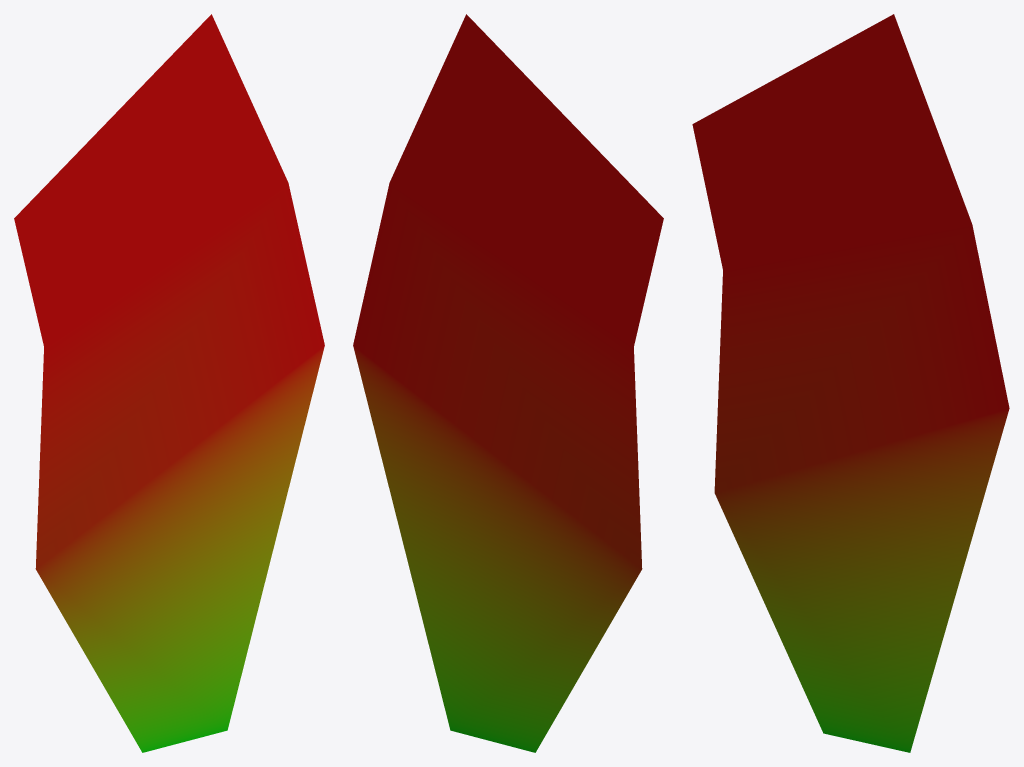
File: Var2_LOD3.fbx
The picture shows the model from 3 angles, left to right: view 1: azimuth 30°, elevation 25°; view 2: azimuth 150°, elevation 25°; view 3: azimuth 330°, elevation 25°; orthographic projection. The views are drawn at different scales.
Parts seen in each view (by area): view 1: _013b_Var2_LOD3; view 2: _013b_Var2_LOD3; view 3: _013b_Var2_LOD3.
Part boxes in pixels (bbox=[...]): _013b_Var2_LOD3: bbox=[14, 14, 324, 752]; _013b_Var2_LOD3: bbox=[353, 14, 663, 752]; _013b_Var2_LOD3: bbox=[692, 14, 1009, 752].
Size of the model in its own units: 40.42 by 89.72 by 3.81e-06.
